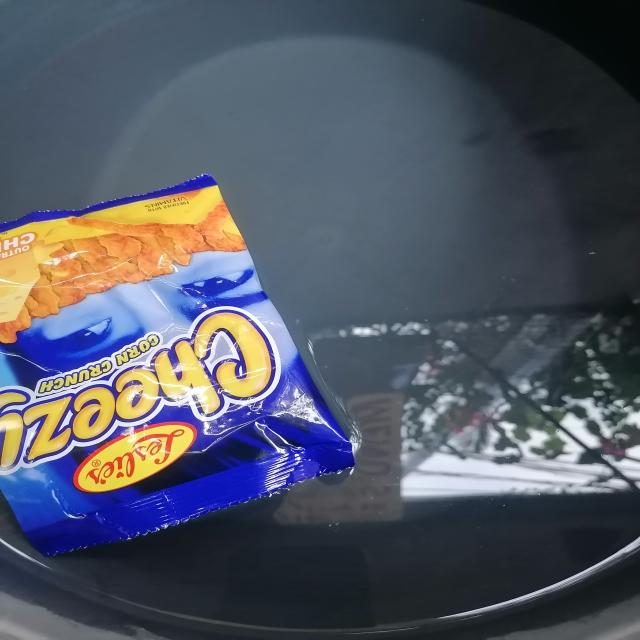Plastic Wrapper: (0, 153, 384, 572)
